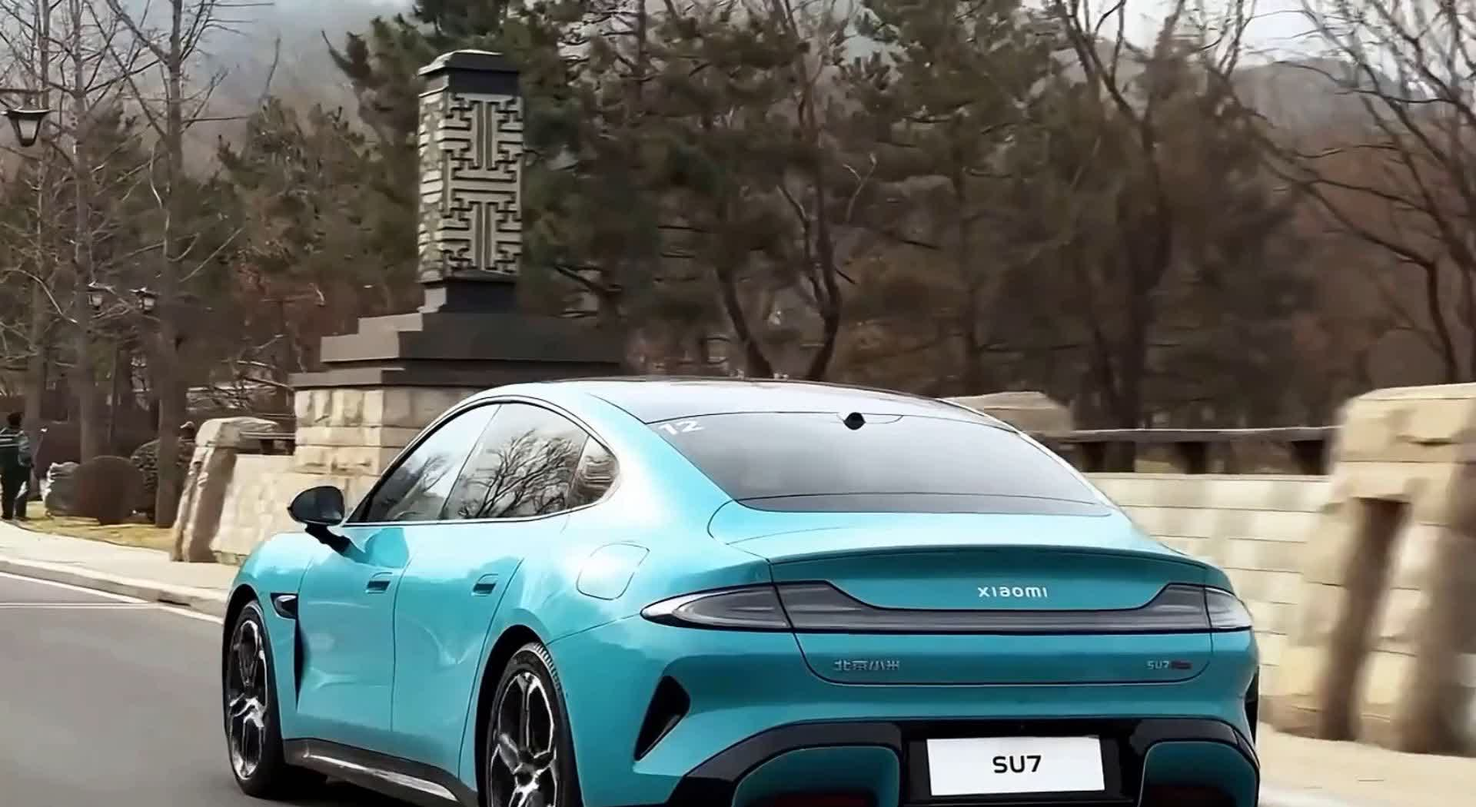su7: (221, 387, 1256, 807)
